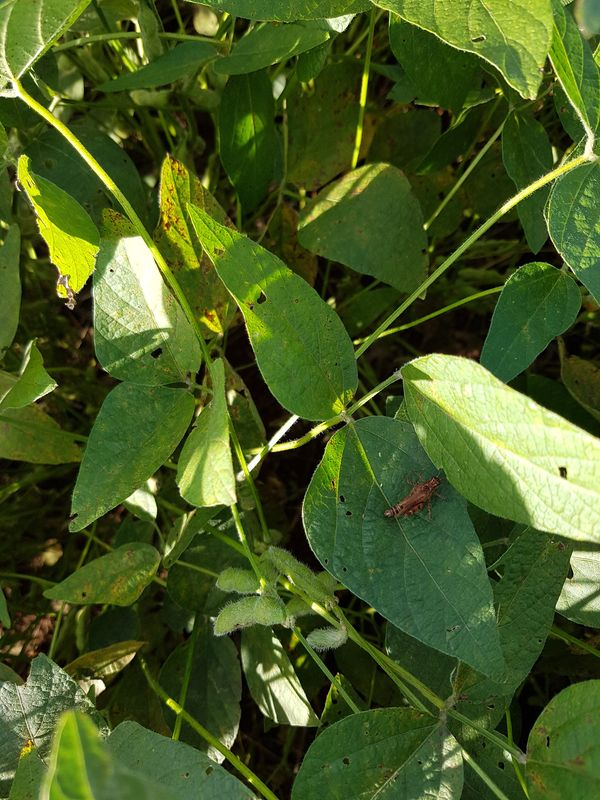Rhammatocerus_schistocercoides: (372, 462, 462, 535)
